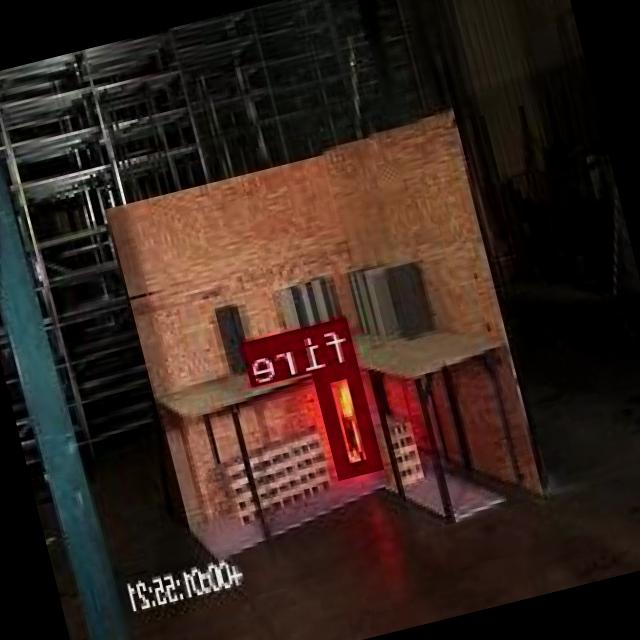fire: (317, 358, 384, 476)
